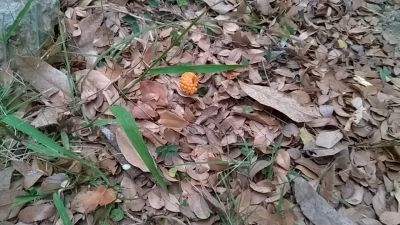eggs: (173, 70, 201, 96)
